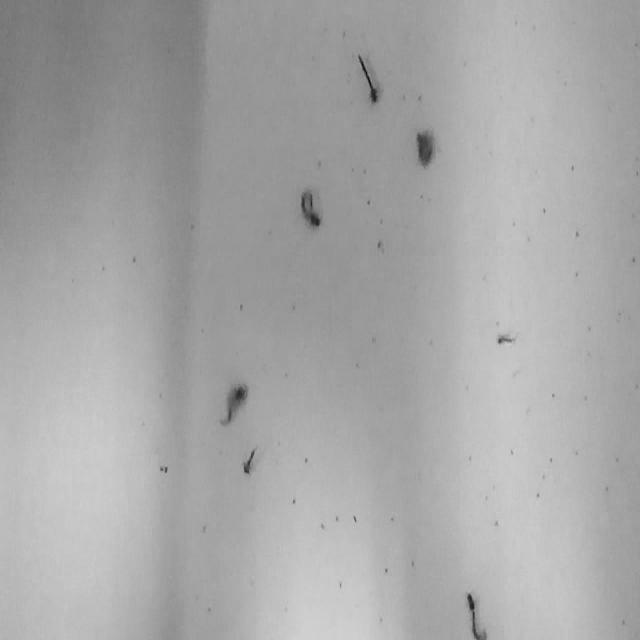larvas: (219, 382, 247, 425), (357, 52, 378, 104), (466, 591, 486, 639), (299, 190, 321, 228), (415, 130, 435, 168), (242, 444, 256, 474), (496, 332, 516, 345)
